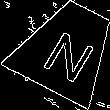N_NE: (35, 17, 100, 81)
